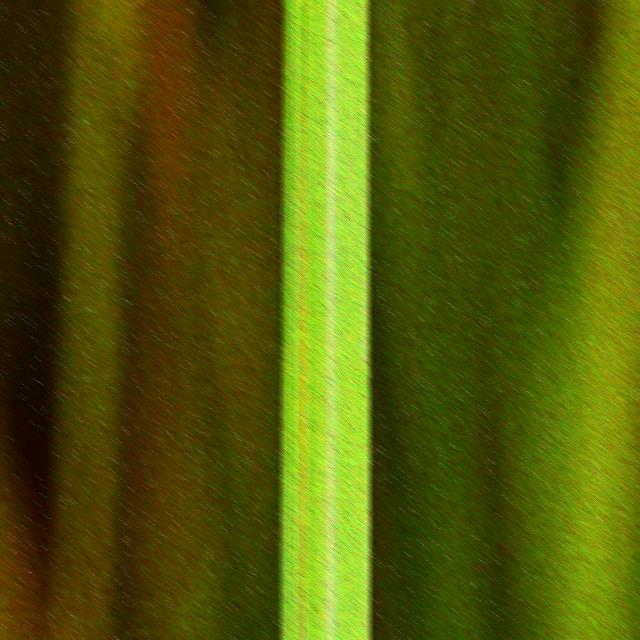BLS: (299, 0, 306, 640)
